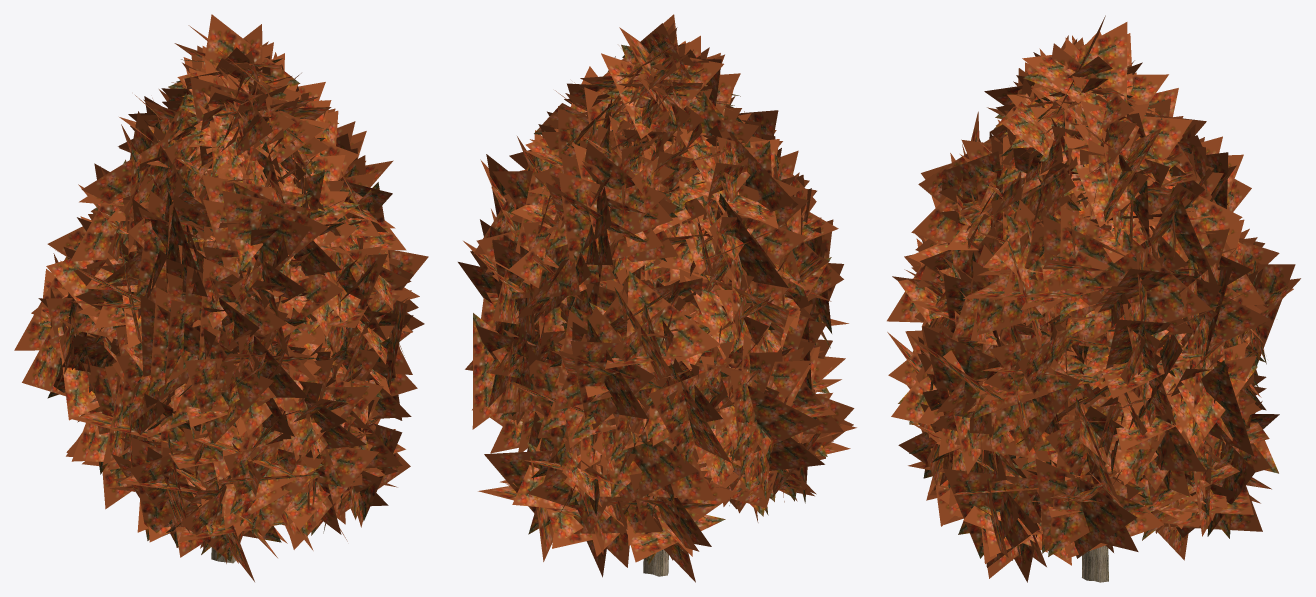
Rendered from Liquidambar_Styraciflua_Autumn_Adult.glb.
The picture shows the model from 3 angles, left to right: view 1: azimuth 30°, elevation 25°; view 2: azimuth 150°, elevation 25°; view 3: azimuth 270°, elevation 25°; orthographic projection. The views are drawn at different scales.
Visible parts, largest first — view 1: Liquidambar_Styraciflua_Autumn_Adult__LOD3; view 2: Liquidambar_Styraciflua_Autumn_Adult__LOD3; view 3: Liquidambar_Styraciflua_Autumn_Adult__LOD3.
Part boxes in pixels (x1=…): Liquidambar_Styraciflua_Autumn_Adult__LOD3: x1=14, y1=14, x2=428, y2=581; Liquidambar_Styraciflua_Autumn_Adult__LOD3: x1=458, y1=14, x2=856, y2=582; Liquidambar_Styraciflua_Autumn_Adult__LOD3: x1=887, y1=15, x2=1300, y2=582.
Bounding box in the file's own units: 10.54 × 15.38 × 10.35.
2 materials, 2 textured.
